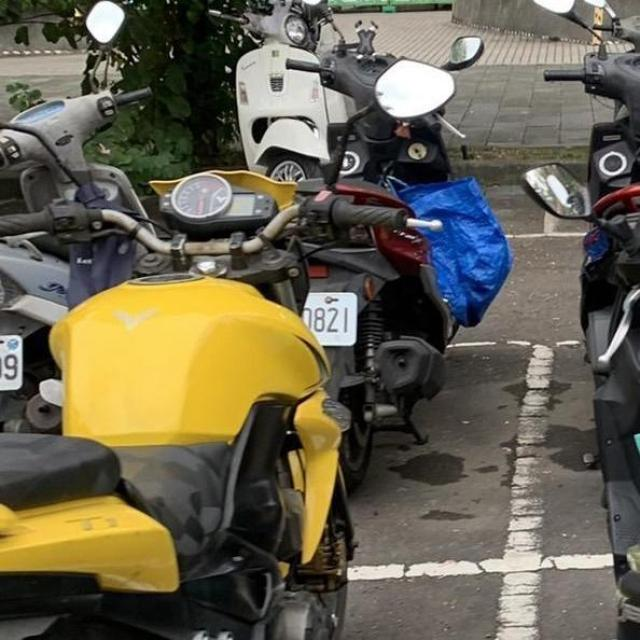W: (289, 286, 367, 349), (0, 325, 30, 399)
